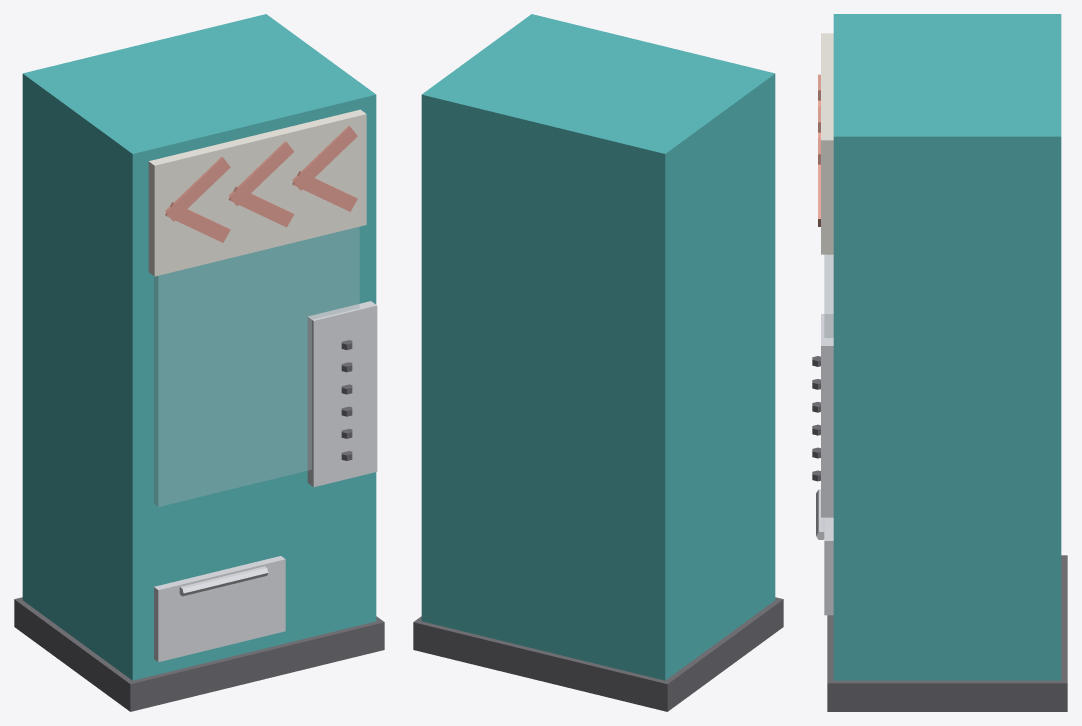
File: retro-diner-and-roadside-motel-vending-machine-d4308d04__37350.glb
3 renders of one model, left to right at view 1: azimuth 30°, elevation 25°; view 2: azimuth 150°, elevation 25°; view 3: azimuth 270°, elevation 25°, orthographic. The views are drawn at different scales.
Parts seen in each view (by area): view 1: vending-machine-turquoise, vending-machine-glass, vending-machine-cream, vending-machine-asphalt, vending-machine-chrome, flap, vending-machine-coral; view 2: vending-machine-turquoise, vending-machine-asphalt; view 3: vending-machine-turquoise, vending-machine-asphalt, vending-machine-cream, vending-machine-chrome, flap, vending-machine-glass, vending-machine-coral.
Boxes of the visible parts, box(x1,y1,x2,y2) form: vending-machine-turquoise: box(22, 14, 376, 680); vending-machine-glass: box(154, 227, 359, 506); vending-machine-cream: box(148, 109, 366, 276); vending-machine-asphalt: box(14, 340, 384, 711); vending-machine-chrome: box(307, 301, 377, 487); flap: box(154, 556, 285, 662); vending-machine-coral: box(165, 126, 357, 242); vending-machine-turquoise: box(421, 14, 775, 680); vending-machine-asphalt: box(413, 597, 783, 711); vending-machine-turquoise: box(833, 14, 1061, 680); vending-machine-asphalt: box(812, 356, 1067, 711); vending-machine-cream: box(821, 33, 833, 254); vending-machine-chrome: box(821, 314, 833, 517); flap: box(816, 489, 833, 615); vending-machine-glass: box(824, 255, 833, 337); vending-machine-coral: box(818, 74, 820, 226).
Size of the model in its own units: 0.9601 by 2 by 0.8074.
